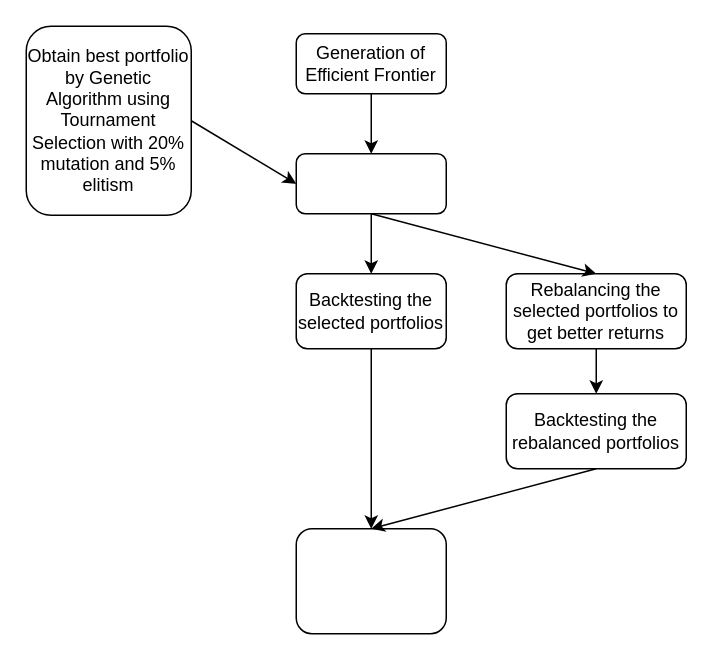
Some shapes in this 713 by 660 pixel diagram are drawn without their labels. Here are the shapes that lost their labels. From the top down, the centre of each, then its label:
At point 370,183: "Selecting few optimal portfolios".
At point 370,580: "Analyzing the portfolios in terms of growth and risks associated".
